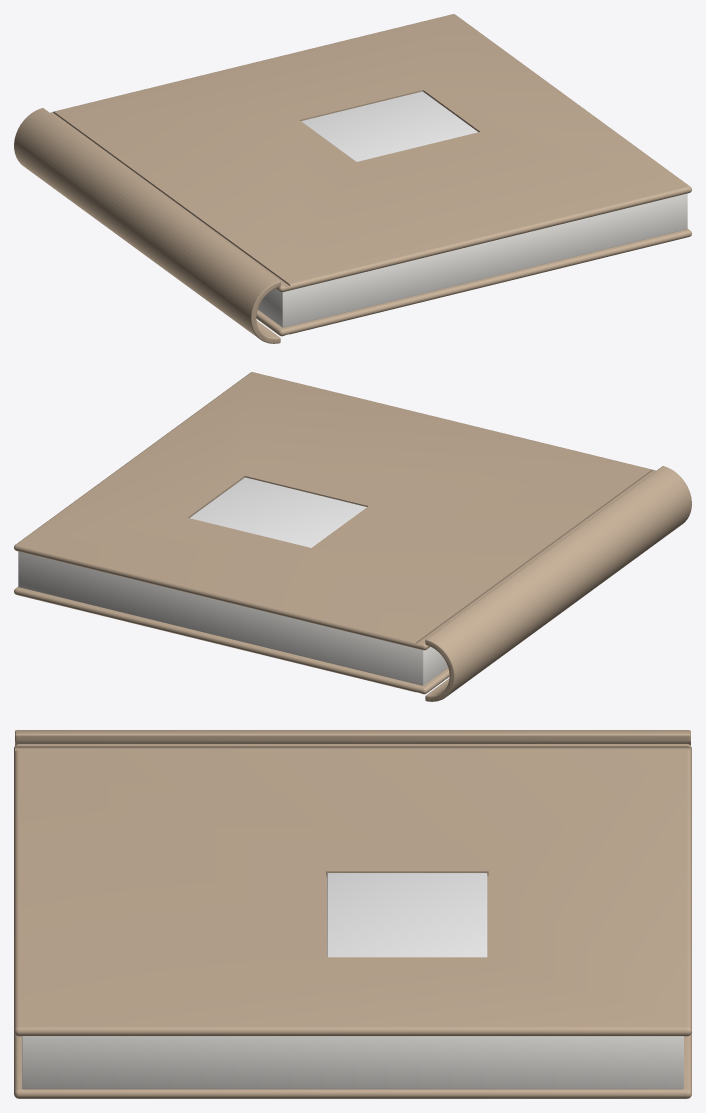
Rendered from photo-small--square.glb.
The picture shows the model from 3 angles, top to bottom: view 1: azimuth 30°, elevation 25°; view 2: azimuth 150°, elevation 25°; view 3: azimuth 270°, elevation 25°; orthographic projection. The views are drawn at different scales.
Parts seen in each view (by area): view 1: CoverFront, Spine, Pages, Photo, CoverBack; view 2: CoverFront, Spine, Pages, Photo, CoverBack; view 3: CoverFront, Pages, Photo, Spine, CoverBack.
Boxes of the visible parts, x1,y1,x2,y2 form: CoverFront: [50, 14, 691, 292]; Spine: [14, 108, 280, 343]; Pages: [258, 193, 687, 327]; Photo: [301, 91, 477, 161]; CoverBack: [256, 229, 691, 336]; CoverFront: [14, 372, 655, 650]; Spine: [425, 466, 691, 701]; Pages: [18, 551, 447, 685]; Photo: [189, 477, 366, 547]; CoverBack: [14, 587, 449, 694]; CoverFront: [14, 744, 691, 1036]; Pages: [22, 1036, 683, 1089]; Photo: [327, 873, 487, 957]; Spine: [15, 730, 690, 745]; CoverBack: [14, 1033, 691, 1098].
Size of the model in its own units: 0.3208 by 0.043 by 0.3.
